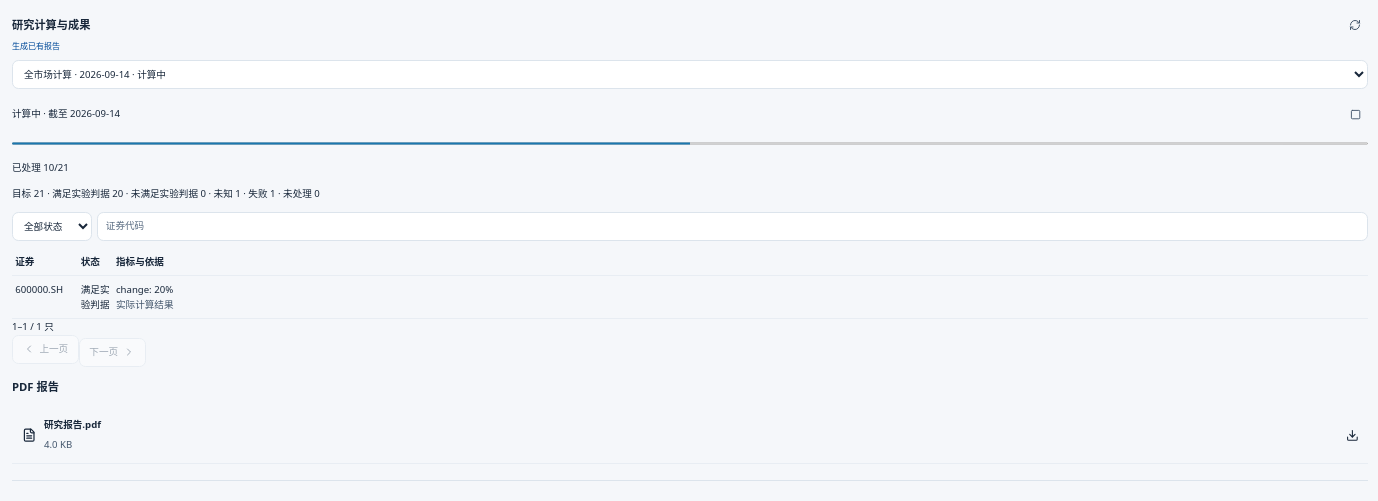
Test: persistent research results › restores scan progress and output downloads and cancels only the selected scan
The width and height of the screenshot is (1378, 501).
Check: the text "已处理 10/21" is shown, box [12,161,69,174]
Click the button named "停止研究扫描" at (1355,114), box [1342,101,1368,127]
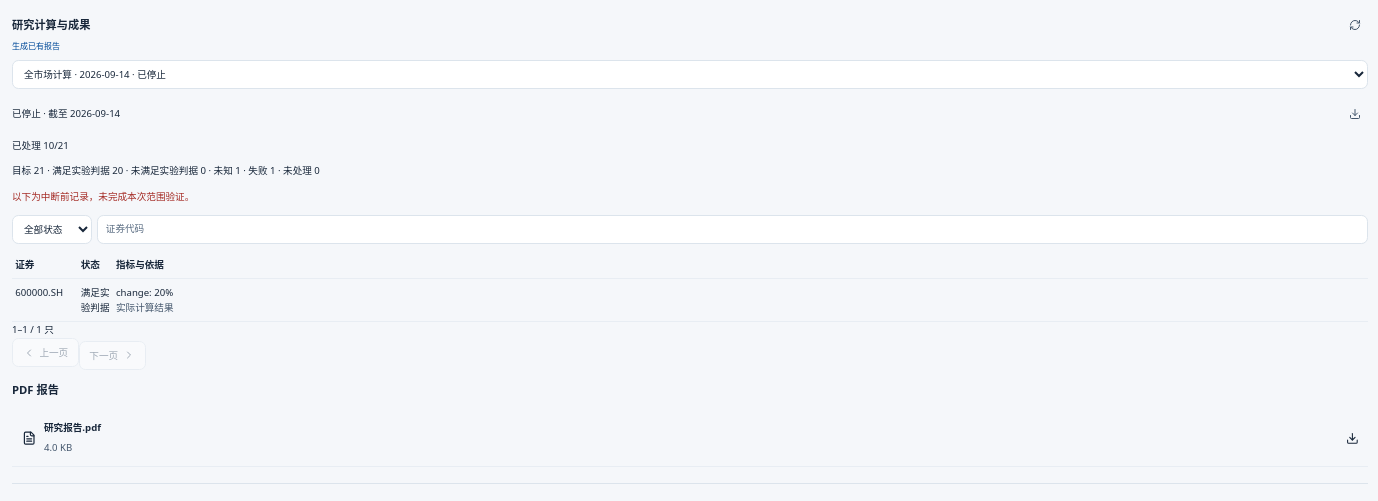
Check: the text "以下为中断前记录，未完成本次范围验证。" is shown, box [12,190,194,203]
